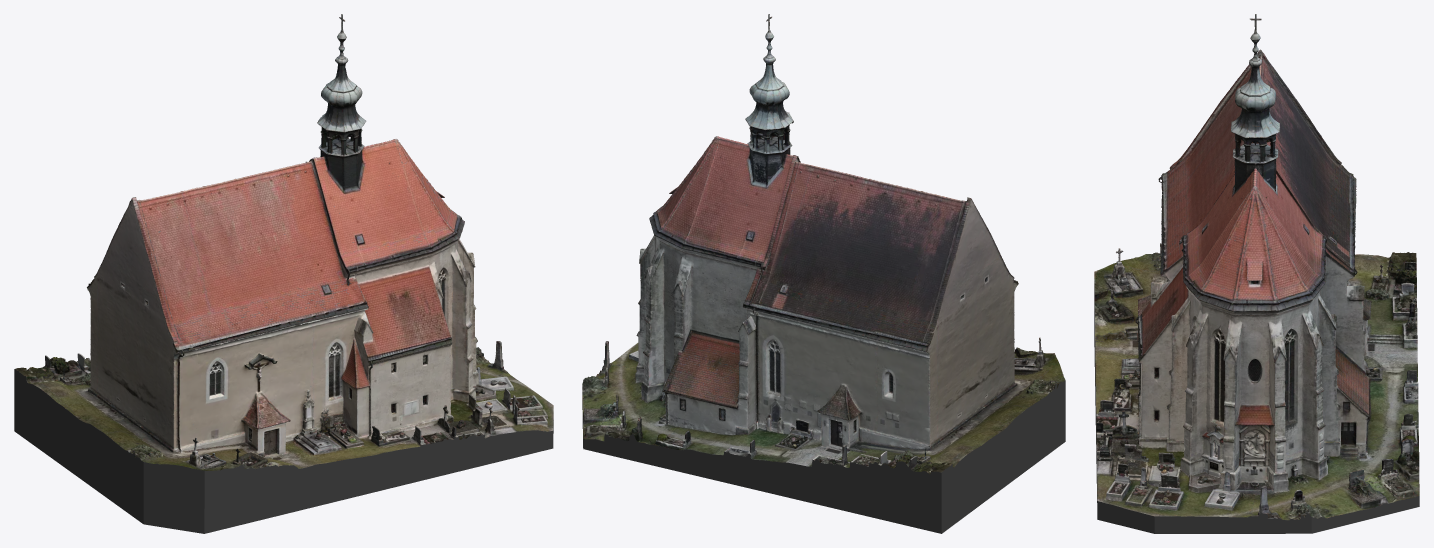
File: filialkirche_hl._blasius.glb
3 renders of one model, left to right at view 1: azimuth 30°, elevation 25°; view 2: azimuth 150°, elevation 25°; view 3: azimuth 270°, elevation 25°, orthographic. The views are drawn at different scales.
Visible parts, largest first — view 1: Object_2, Object_22; view 2: Object_2, Object_22; view 3: Object_2, Object_22.
Boxes of the visible parts, box(x1,y1,x2,y2) form: Object_2: box(15, 14, 553, 470); Object_22: box(14, 368, 553, 533); Object_2: box(582, 14, 1065, 474); Object_22: box(582, 380, 1065, 533); Object_2: box(1094, 14, 1419, 520); Object_22: box(1094, 254, 1419, 533).
Size of the model in its own units: 20.97 by 19.9 by 13.47.
Materials: 2 (1 with a texture image).
